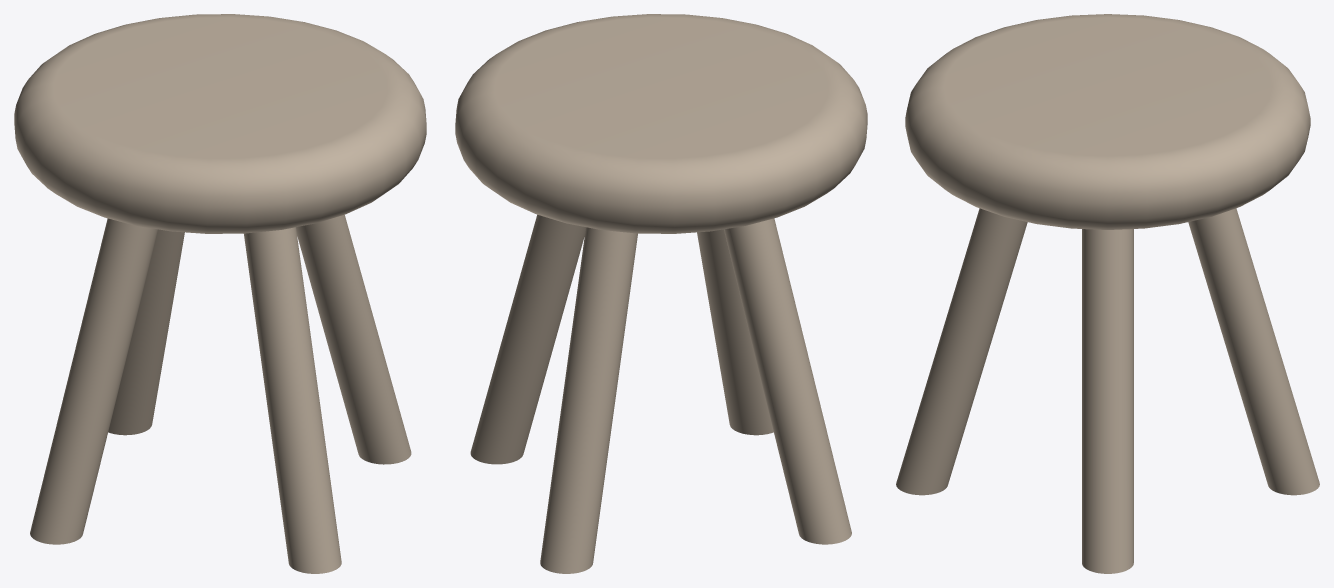
The model's file is Tabouret2_3.fbx.
3 views of the same model, side by side, from view 1: azimuth 30°, elevation 25°; view 2: azimuth 150°, elevation 25°; view 3: azimuth 270°, elevation 25° (orthographic).
Parts seen in each view (by area): view 1: pCylinder1616, pCylinder1635; view 2: pCylinder1616, pCylinder1635; view 3: pCylinder1616, pCylinder1635.
Boxes of the visible parts, bbox=[...] form: pCylinder1616: bbox=[14, 14, 426, 233]; pCylinder1635: bbox=[30, 214, 411, 573]; pCylinder1616: bbox=[455, 14, 867, 233]; pCylinder1635: bbox=[470, 214, 851, 573]; pCylinder1616: bbox=[905, 14, 1310, 229]; pCylinder1635: bbox=[896, 208, 1319, 573].
Bounding box in the file's own units: 40.86 × 42.26 × 40.85.
